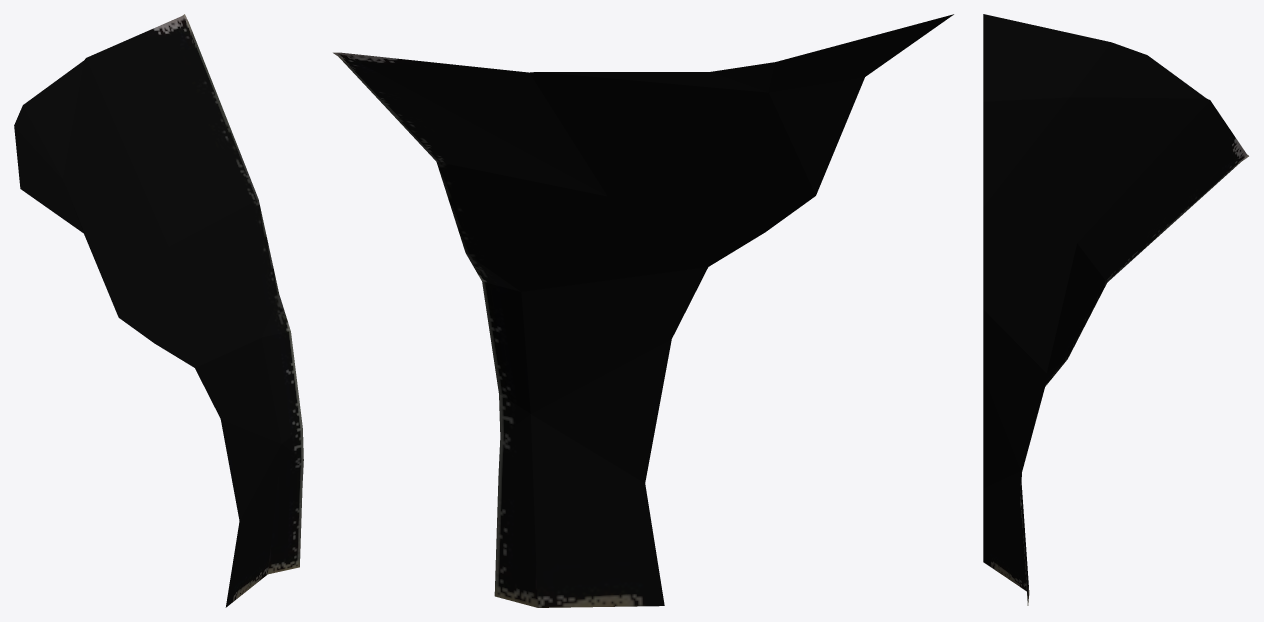
3 renders of one model, left to right at view 1: azimuth 30°, elevation 25°; view 2: azimuth 150°, elevation 25°; view 3: azimuth 270°, elevation 25°, orthographic. The views are drawn at different scales.
Bounding box in the file's own units: 1.13 × 1.67 × 0.8937.
Materials: 1 (1 with a texture image).
